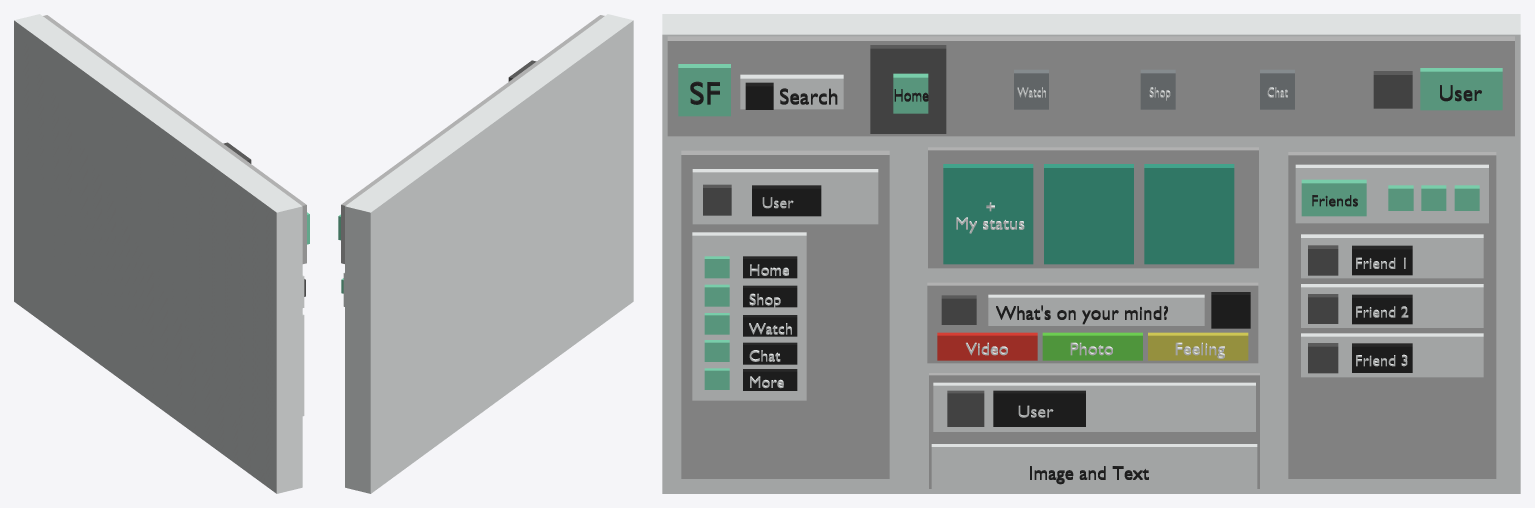
The picture shows the model from 3 angles, left to right: view 1: azimuth 30°, elevation 25°; view 2: azimuth 150°, elevation 25°; view 3: azimuth 270°, elevation 25°; orthographic projection. The views are drawn at different scales.
Parts seen in each view (by area): view 1: Cube; view 2: Cube; view 3: Cube, Text.022.
Boxes of the visible parts, x1,y1,x2,y2 form: Cube: (14, 14, 309, 493); Cube: (338, 14, 633, 493); Cube: (662, 14, 1520, 493); Text.022: (996, 305, 1167, 324).
Size of the model in its own units: 0.6872 by 4.06 by 6.88.
